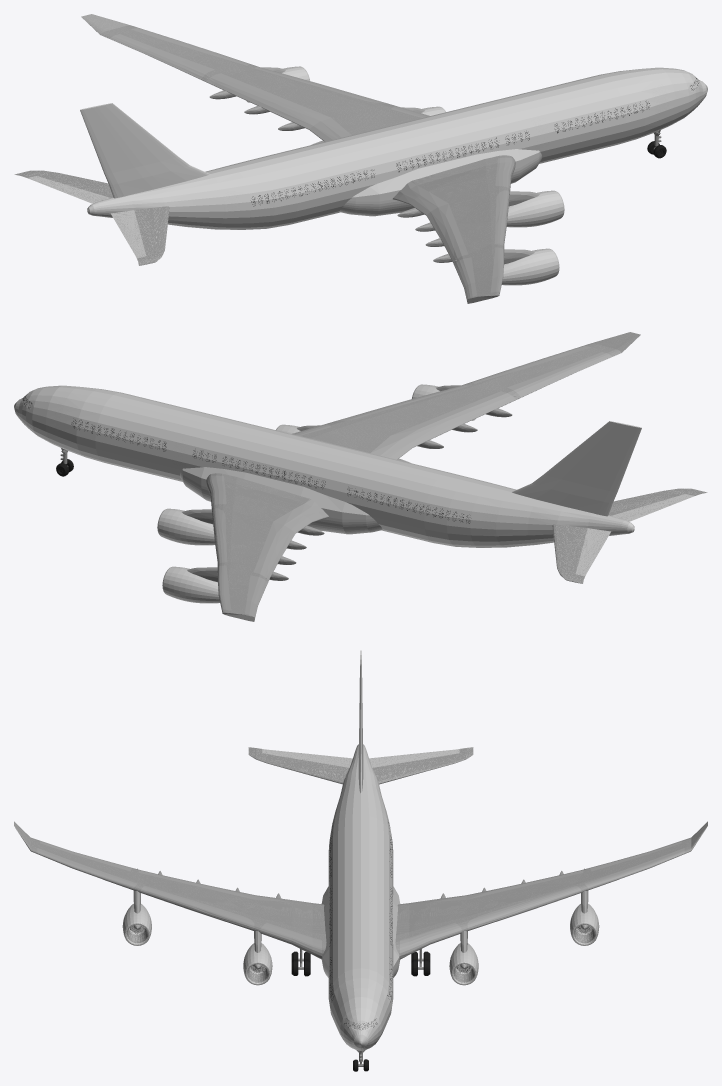
The picture shows the model from 3 angles, top to bottom: view 1: azimuth 30°, elevation 25°; view 2: azimuth 150°, elevation 25°; view 3: azimuth 270°, elevation 25°; orthographic projection. The views are drawn at different scales.
Visible parts, largest first — view 1: mesh4_mesh4-geometry, mesh83.001_mesh83-geometry, mesh41.001_mesh41-geometry, mesh11_mesh11-geometry, mesh7_mesh7-geometry, mesh8_mesh8-geometry, mesh42.004_mesh42-geometry, mesh1_mesh1-geometry, mesh42.003_mesh42-geometry; view 2: mesh4_mesh4-geometry, mesh41.001_mesh41-geometry, mesh83.001_mesh83-geometry, mesh11_mesh11-geometry, mesh7_mesh7-geometry, mesh1_mesh1-geometry, mesh84.004_mesh84-geometry, mesh8_mesh8-geometry, mesh84.003_mesh84-geometry; view 3: mesh4_mesh4-geometry, mesh83.001_mesh83-geometry, mesh41.001_mesh41-geometry, mesh8_mesh8-geometry, mesh1_mesh1-geometry, mesh84.004_mesh84-geometry, mesh42.004_mesh42-geometry, mesh84.003_mesh84-geometry, mesh42.003_mesh42-geometry, mesh7_mesh7-geometry.
Boxes of the visible parts, left/top/right/bottom form: mesh4_mesh4-geometry: left=87, top=67, right=707, bottom=229; mesh83.001_mesh83-geometry: left=81, top=14, right=429, bottom=141; mesh41.001_mesh41-geometry: left=393, top=155, right=515, bottom=303; mesh11_mesh11-geometry: left=80, top=103, right=209, bottom=198; mesh7_mesh7-geometry: left=339, top=149, right=541, bottom=216; mesh8_mesh8-geometry: left=111, top=206, right=169, bottom=265; mesh42.004_mesh42-geometry: left=506, top=190, right=564, bottom=227; mesh1_mesh1-geometry: left=14, top=170, right=113, bottom=203; mesh42.003_mesh42-geometry: left=501, top=248, right=559, bottom=285; mesh4_mesh4-geometry: left=14, top=385, right=634, bottom=547; mesh41.001_mesh41-geometry: left=292, top=332, right=640, bottom=459; mesh83.001_mesh83-geometry: left=206, top=473, right=328, bottom=621; mesh11_mesh11-geometry: left=512, top=421, right=641, bottom=516; mesh7_mesh7-geometry: left=180, top=467, right=382, bottom=534; mesh1_mesh1-geometry: left=552, top=524, right=610, bottom=583; mesh84.004_mesh84-geometry: left=157, top=508, right=215, bottom=545; mesh8_mesh8-geometry: left=608, top=488, right=707, bottom=521; mesh84.003_mesh84-geometry: left=162, top=566, right=220, bottom=603; mesh4_mesh4-geometry: left=328, top=744, right=393, bottom=1050; mesh83.001_mesh83-geometry: left=395, top=821, right=707, bottom=959; mesh41.001_mesh41-geometry: left=14, top=821, right=326, bottom=959; mesh8_mesh8-geometry: left=248, top=747, right=352, bottom=784; mesh1_mesh1-geometry: left=369, top=747, right=473, bottom=784; mesh84.004_mesh84-geometry: left=449, top=943, right=478, bottom=985; mesh42.004_mesh42-geometry: left=243, top=943, right=272, bottom=985; mesh84.003_mesh84-geometry: left=570, top=903, right=599, bottom=945; mesh42.003_mesh42-geometry: left=122, top=903, right=151, bottom=945; mesh7_mesh7-geometry: left=321, top=886, right=400, bottom=977.
Size of the model in its own units: 0.6739 by 0.1904 by 0.7139.
10 materials, 1 textured.
